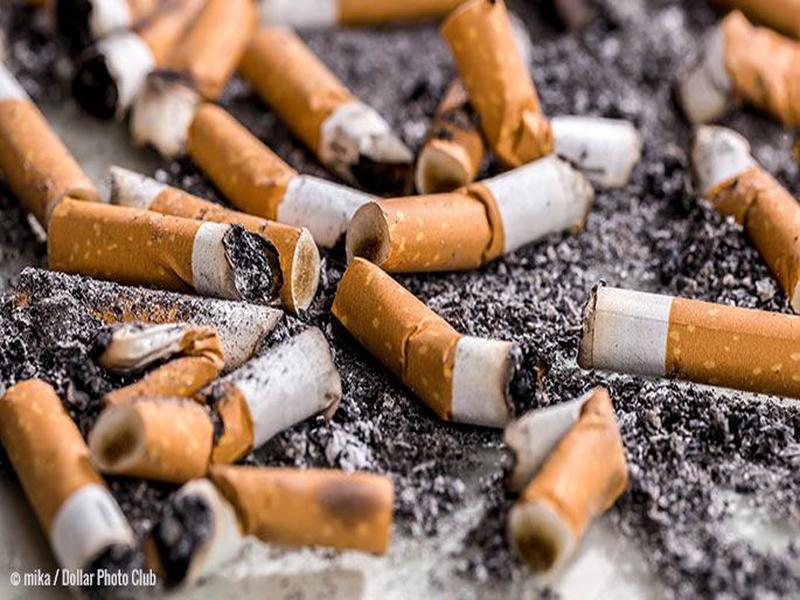burned_cigarette: (329, 252, 541, 429), (87, 326, 340, 474), (345, 154, 595, 273), (492, 387, 637, 581), (577, 278, 800, 397), (34, 200, 284, 305), (1, 381, 133, 572), (167, 463, 411, 557)
